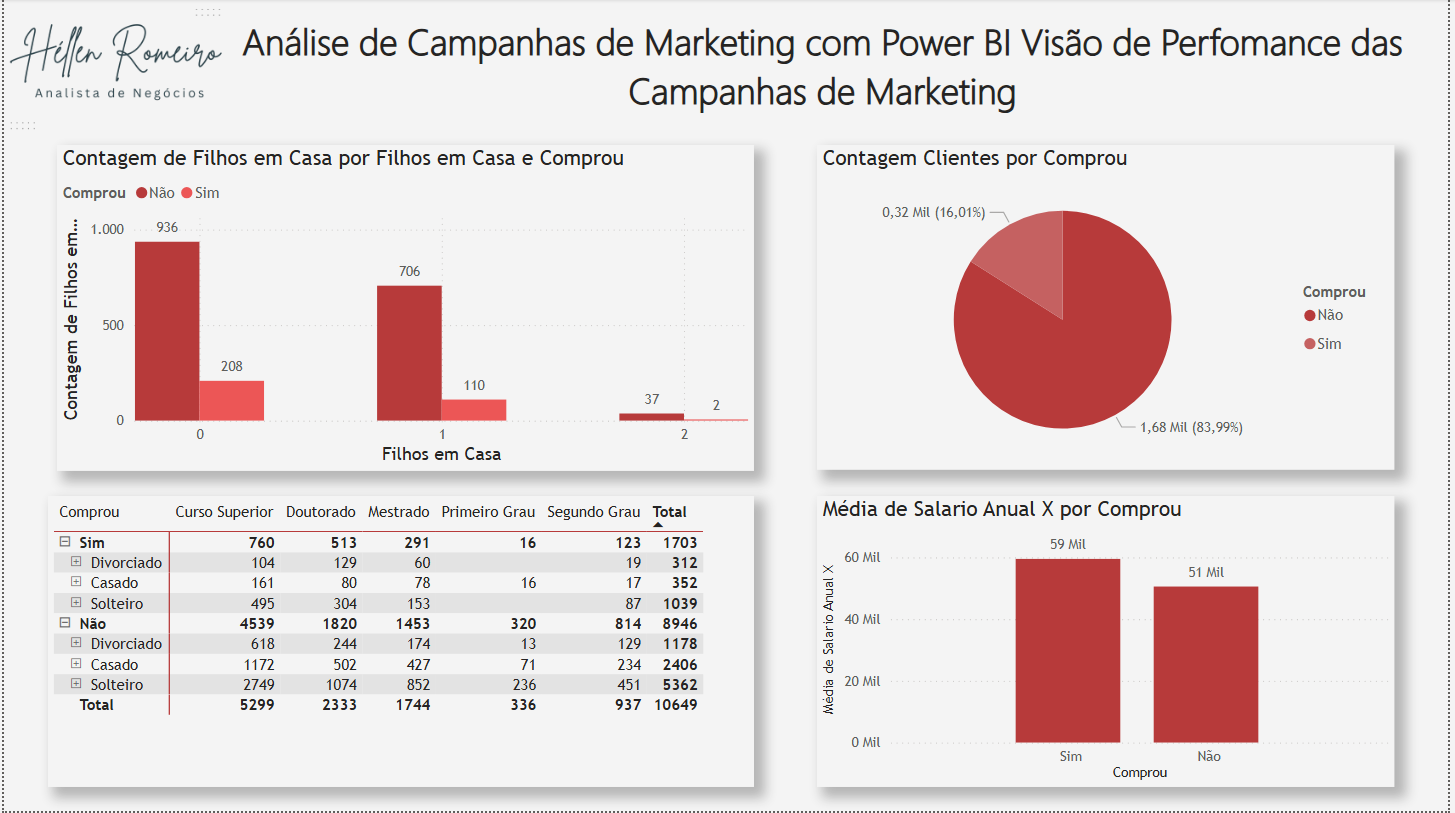

The dashboard page shown, as its layout file describes it:
{"tool":"powerbi","page":{"name":"Visão Campanhas","canvas":[1280,720],"ordinal":2},"visuals":[{"type":"textbox","box":[204.3,9.8,1043.7,101.3],"z":0},{"type":"pieChart","fields":{"Category":["dados_marketing.Comprou"],"Y":["CountNonNull(dados_marketing.ID)"]},"box":[721.3,129.7,511.6,287.8],"z":1000},{"type":"clusteredColumnChart","fields":{"Category":["dados_marketing.Comprou"],"Y":["Avg(dados_marketing.Salario Anual)"]},"box":[721.3,440.6,511.6,257.6],"z":2000},{"type":"pivotTable","fields":{"Rows":["dados_marketing.Comprou","dados_marketing.Estado Civil","dados_marketing.Pais"],"Values":["Sum(dados_marketing.Numero Visitas WebSite Mes)"],"Columns":["dados_marketing.Escolaridade"]},"box":[39.1,440.6,626.2,257.6],"z":3000},{"type":"clusteredColumnChart","fields":{"Series":["dados_marketing.Comprou"],"Y":["CountNonNull(dados_marketing.Filhos em Casa)"],"Category":["dados_marketing.Filhos em Casa"]},"box":[47.1,129.7,618.2,288.7],"z":4000},{"type":"image","box":[0,0,197.7,123.6],"z":5000}]}

Visuals, with their boxes in screenshot pixels (x1, y1, x2, y2), scaled from the page's 1280x720 canvas onto the 1455x813 screenshot:
textbox: x1=232 y1=11 x2=1419 y2=125
pieChart - dados_marketing.Comprou x CountNonNull(dados_marketing.ID): x1=820 y1=146 x2=1401 y2=471
clusteredColumnChart - dados_marketing.Comprou x Avg(dados_marketing.Salario Anual): x1=820 y1=498 x2=1401 y2=788
pivotTable - dados_marketing.Comprou x dados_marketing.Estado Civil: x1=44 y1=498 x2=756 y2=788
clusteredColumnChart - dados_marketing.Comprou x CountNonNull(dados_marketing.Filhos em Casa): x1=54 y1=146 x2=756 y2=472
image: x1=0 y1=0 x2=225 y2=140
